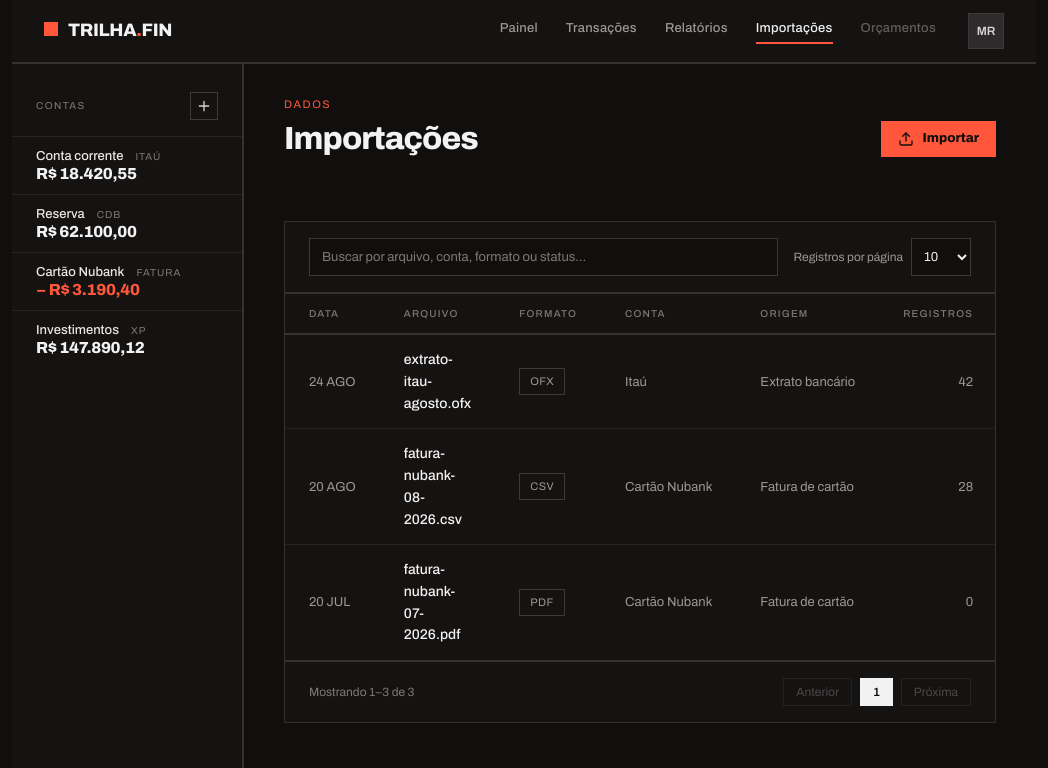
ImportsScreen › filtra pela busca
Type "itau" into the search field named "buscar importações". click: (543, 257)
box: [309, 238, 778, 276]
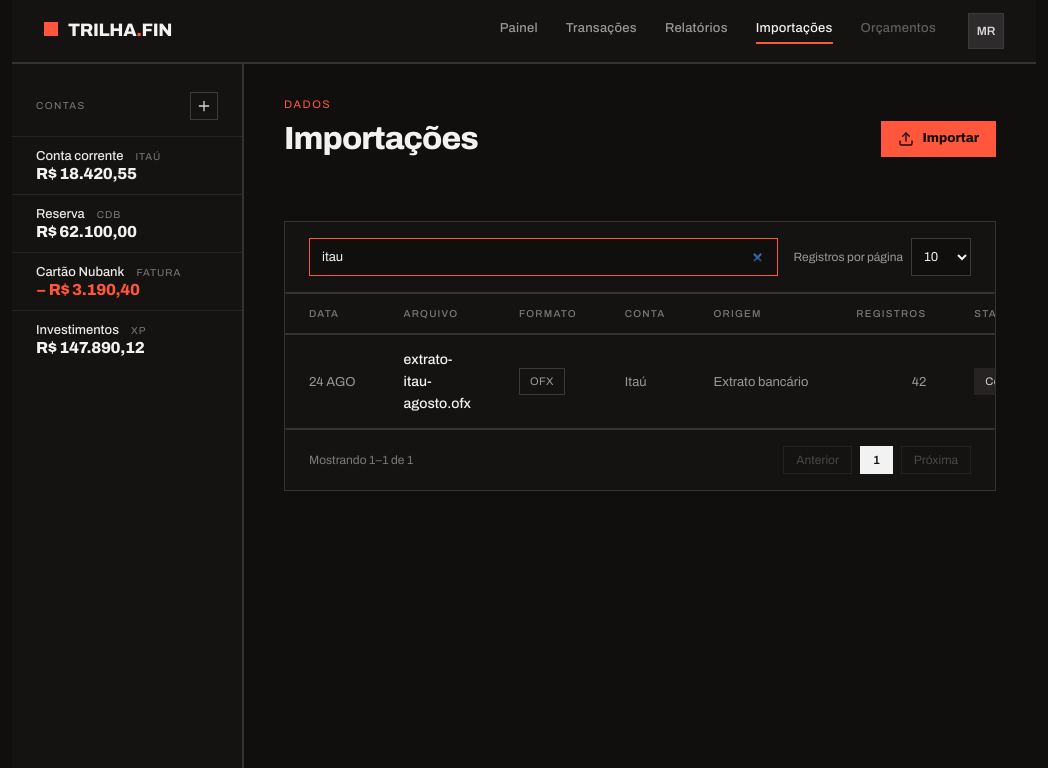
Expected: the text "extrato-itau-agosto.ofx" is shown, [404, 352, 471, 411]
Expected: the text "fatura-nubank-08-2026.csv" is gone
